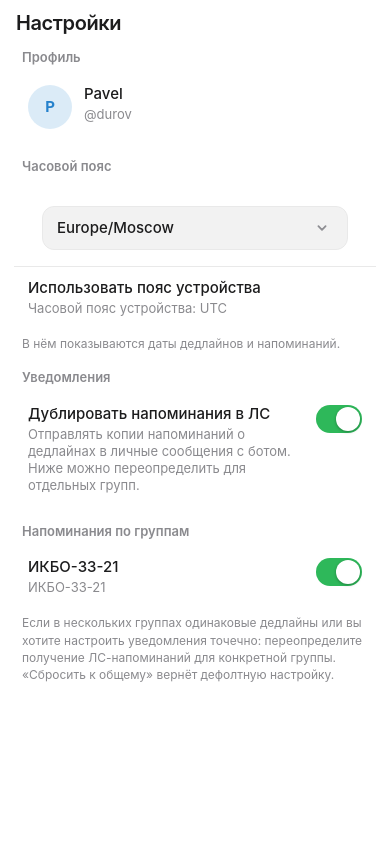
Test: SettingsScreen: переопределения по группам › смена общего дефолта перезапрашивает настройки: наследующие группы не врут
Expected: the element with test id "group-notify-43" is shown, [14,546,376,608]
Expected: the checkbox with test id "group-notify-switch-43" is checked, [316,558,362,586]
// Выключаем общий дефолт (автосохранение).
Click the checkbox labelled "Дублировать напоминания".
click(339, 419)  # box [316,405,362,433]
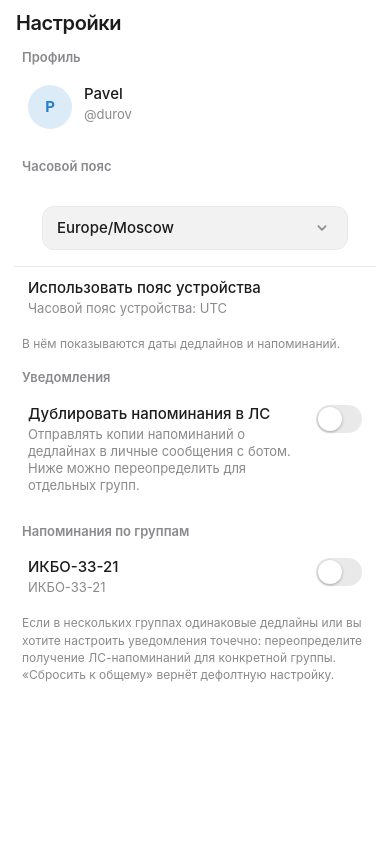
Result: the checkbox with test id "group-notify-switch-43" is not checked at [316,558,362,586]
